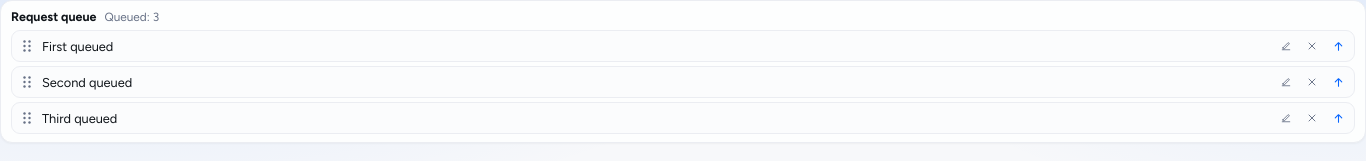
Test: PromptQueueBar › deletes a request from the queue
Click the button named "Delete" in the row of "Second queued" at (1311, 82), box [1300,71,1322,93]
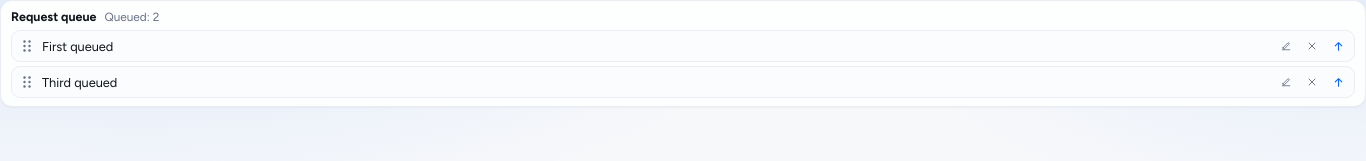
Check: the text "Second queued" is gone
